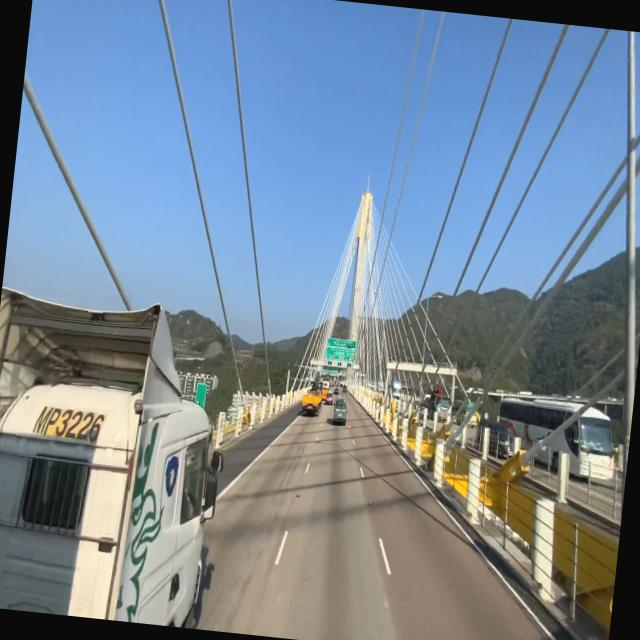Vehicle: (298, 366, 326, 419), (332, 398, 351, 426)
